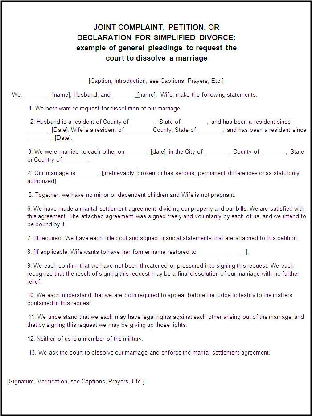textline: (196, 248, 247, 256), (196, 126, 222, 134), (22, 92, 50, 99), (128, 119, 156, 126), (180, 119, 208, 126), (75, 170, 102, 177), (124, 127, 150, 134), (26, 135, 52, 142), (126, 148, 152, 155), (203, 148, 229, 155), (260, 148, 286, 155), (62, 156, 88, 163), (111, 92, 139, 98), (26, 127, 50, 134)
